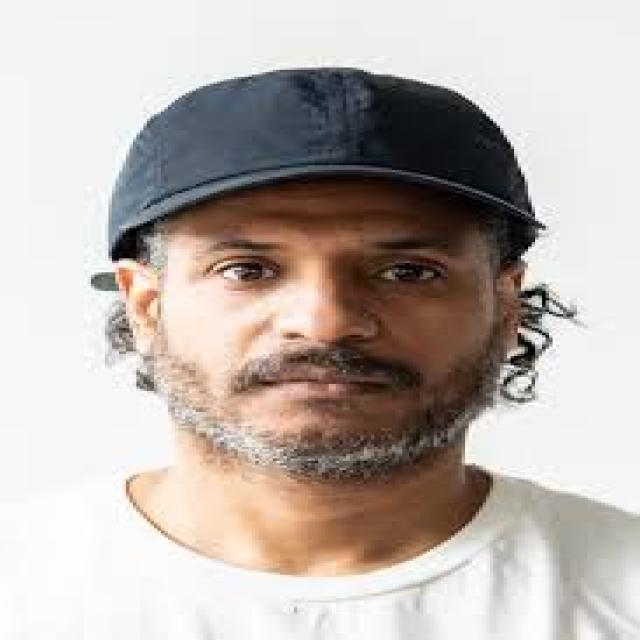cap: (49, 44, 615, 354)
